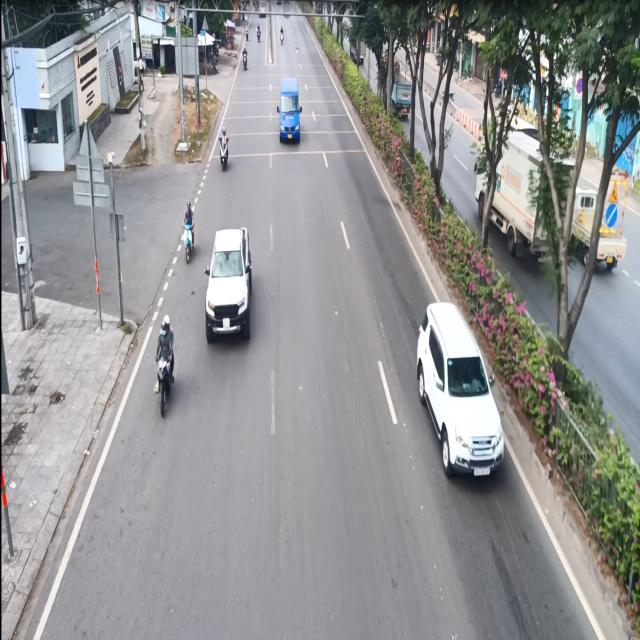car: (413, 299, 509, 474), (206, 224, 256, 353), (276, 75, 305, 146)
motor: (154, 314, 178, 412), (181, 195, 196, 271), (216, 122, 230, 178)
